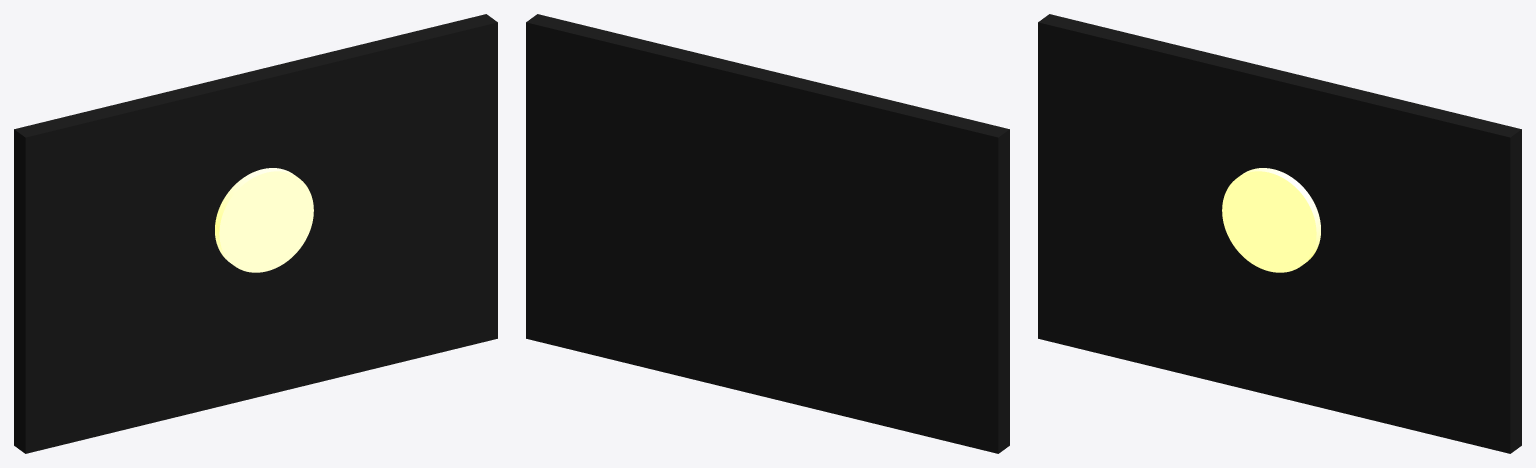
The model's file is BTH-0075.glb.
3 views of the same model, side by side, from view 1: azimuth 30°, elevation 25°; view 2: azimuth 150°, elevation 25°; view 3: azimuth 330°, elevation 25° (orthographic).
Parts seen in each view (by area): view 1: flush-plate; view 2: flush-plate; view 3: flush-plate.
Part boxes in pixels (x1,y1,x2,y2): flush-plate: (14, 14, 497, 453); flush-plate: (526, 14, 1009, 453); flush-plate: (1038, 14, 1521, 453).
Size of what is drawn, in the model's own units: 0.25 by 0.16 by 0.015.
